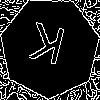K: (24, 22, 68, 75)
